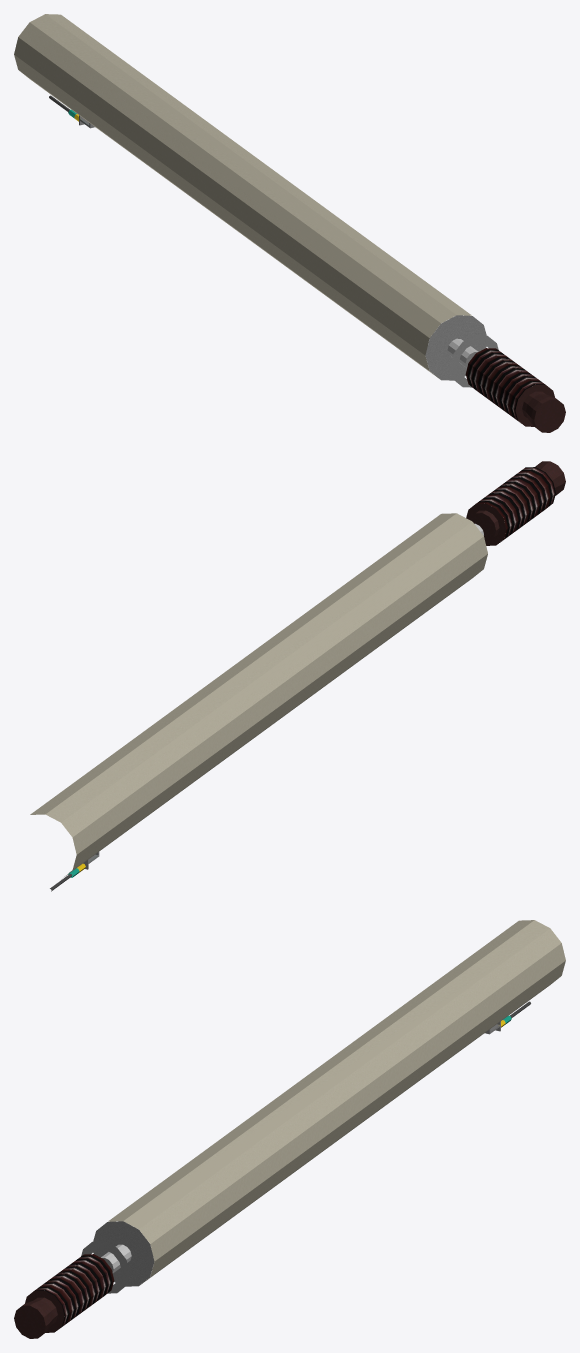
File: ftzbzsb-zzjyz-0123-geode.glb
The picture shows the model from 3 angles, top to bottom: view 1: azimuth 30°, elevation 25°; view 2: azimuth 150°, elevation 25°; view 3: azimuth 330°, elevation 25°; orthographic projection.
Parts seen in each view (by area): view 1: Node; view 2: Node; view 3: Node.
Boxes of the visible parts, x1=… form: Node: x1=14, y1=14, x2=565, y2=432; Node: x1=30, y1=461, x2=565, y2=891; Node: x1=14, y1=920, x2=565, y2=1338.
Bounding box in the file's own units: 0.2819 × 0.352 × 3.93.
7 materials, 7 textured.
